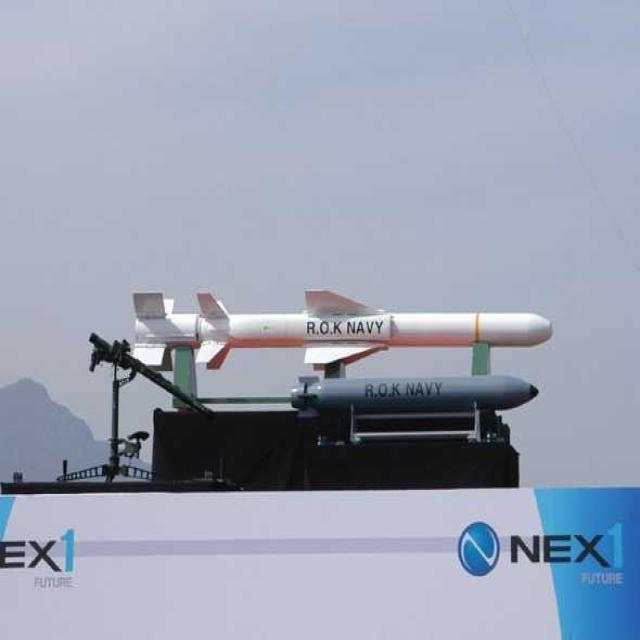missile: (122, 284, 550, 365), (283, 368, 541, 418)
